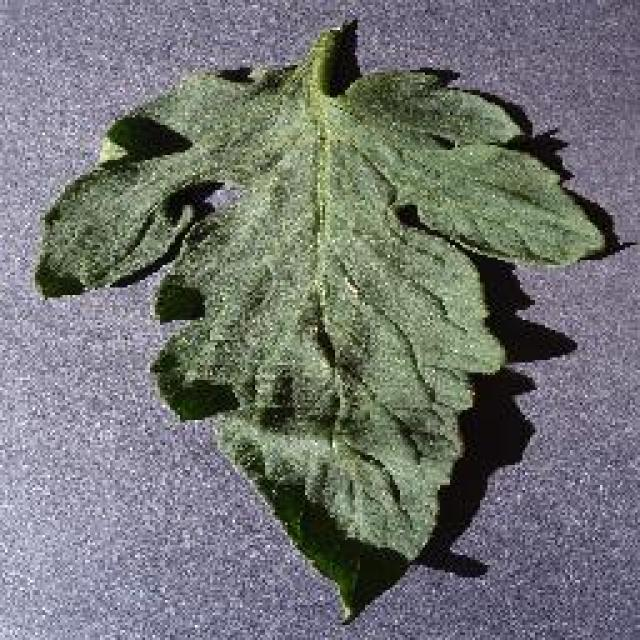Tomato___healthy: (34, 24, 617, 626)
